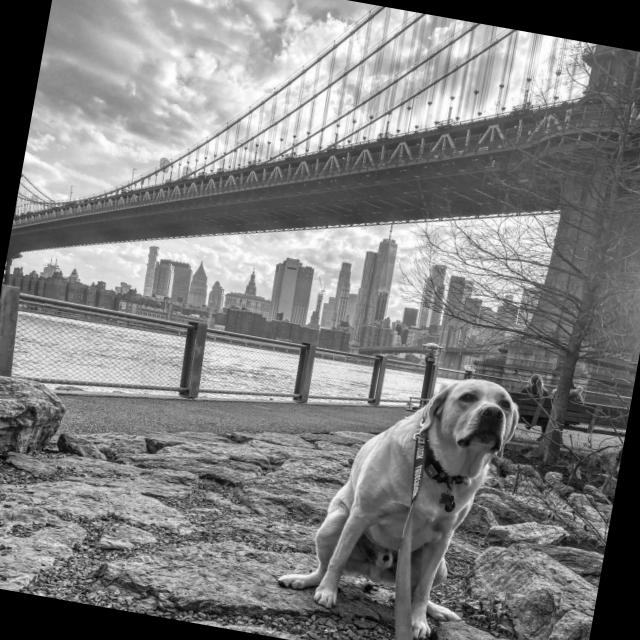squatting: (266, 343, 538, 640)
